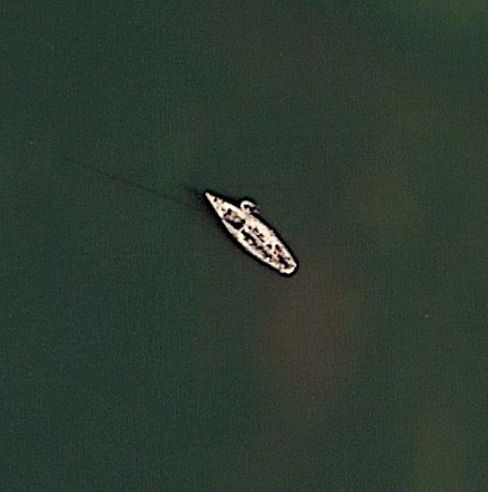boat: (198, 184, 301, 279)
